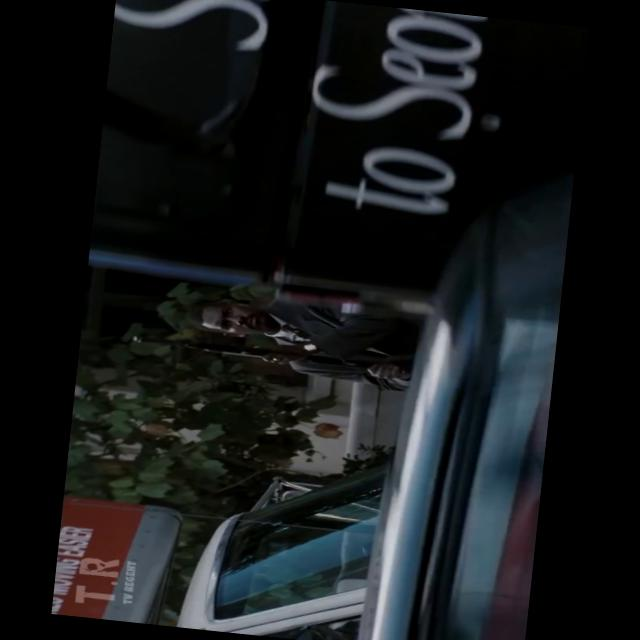long weapon: (109, 320, 410, 392)
